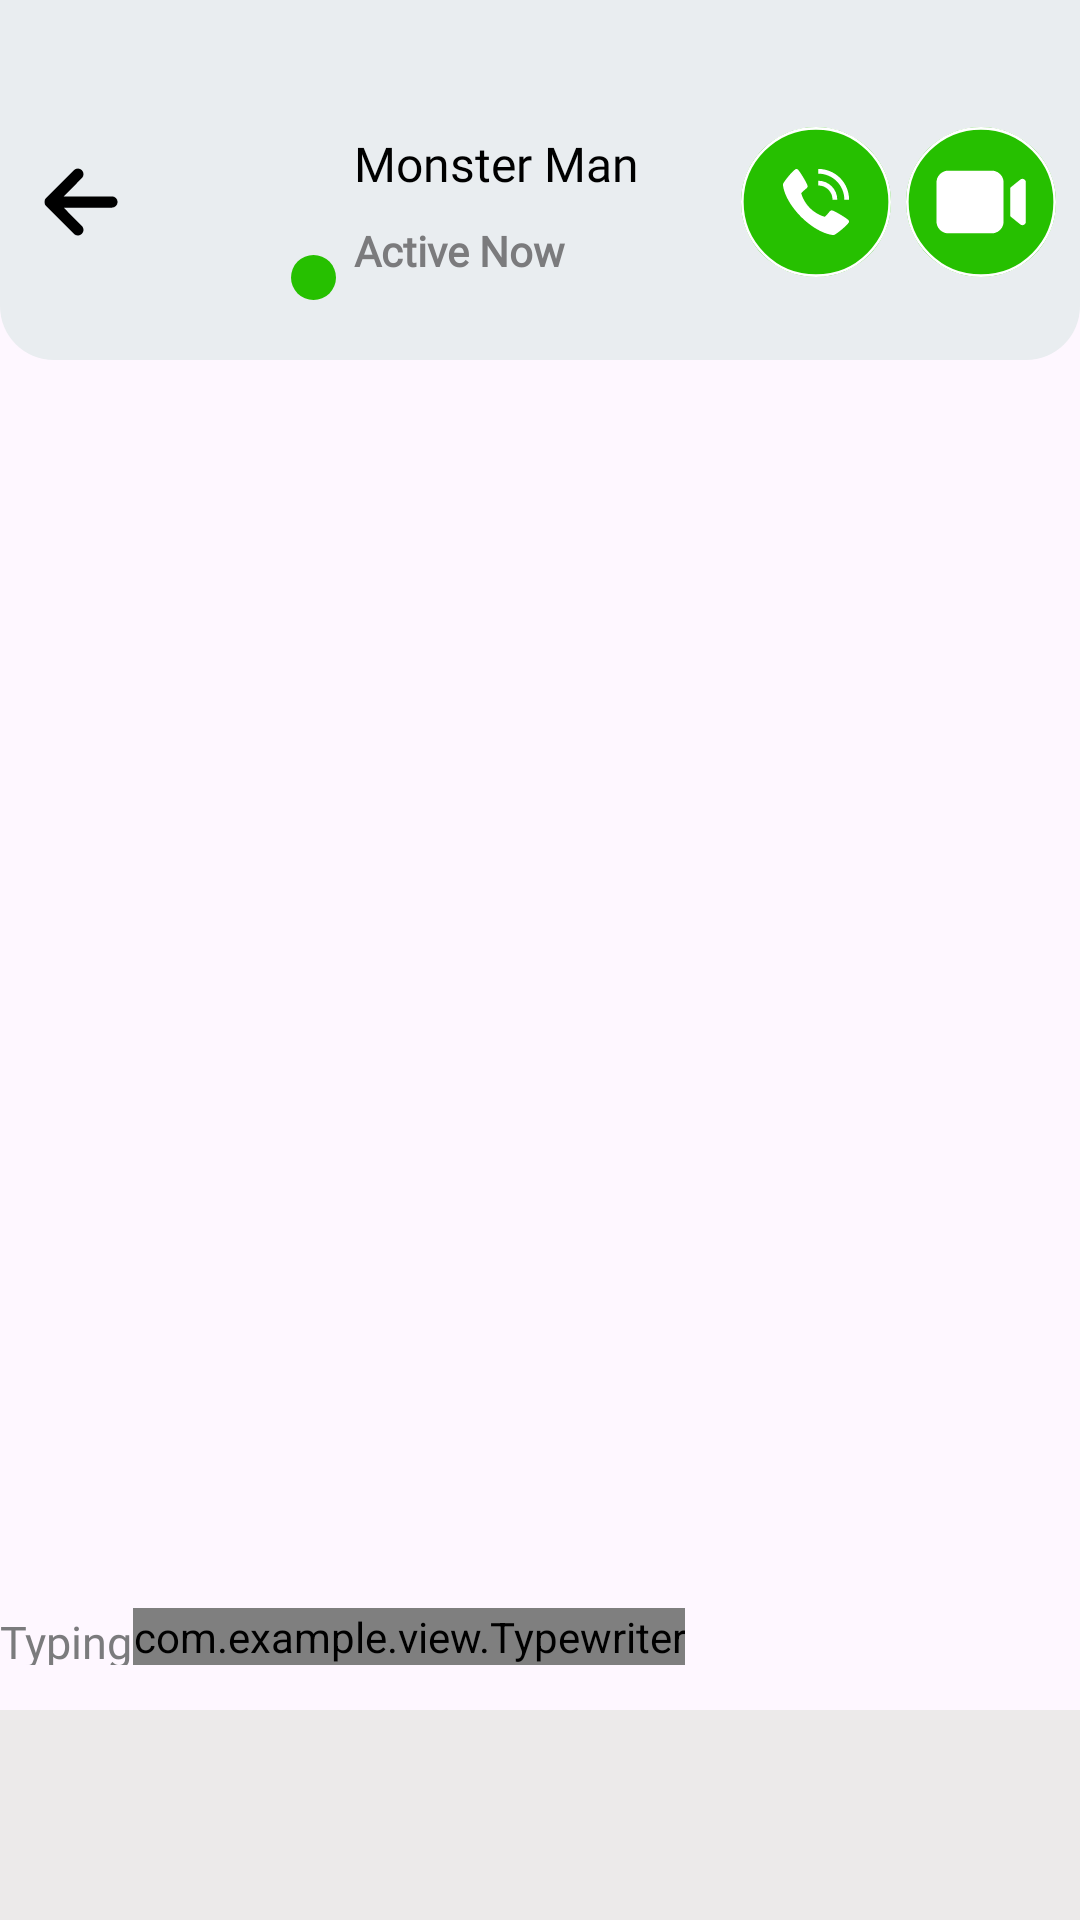

Icons on this 1080 x 1920 Android screen, each with the point to tap as point (x, y):
back: point (81, 202)
call: point (816, 202)
callvideo: point (981, 202)
